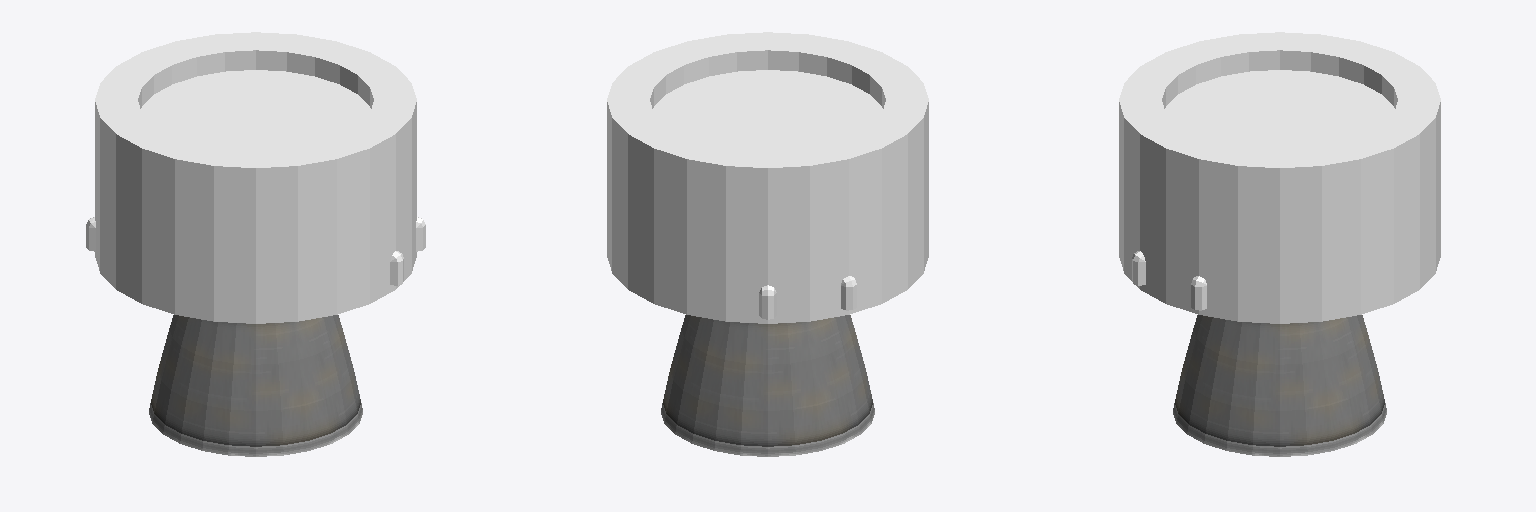
3 views of the same model, side by side, from view 1: azimuth 30°, elevation 25°; view 2: azimuth 150°, elevation 25°; view 3: azimuth 270°, elevation 25° (orthographic).
Visible parts, largest first — view 1: chara_lv_engine_s0p5_2, chara_lv_engine_s0p5_2_nozzle; view 2: chara_lv_engine_s0p5_2, chara_lv_engine_s0p5_2_nozzle; view 3: chara_lv_engine_s0p5_2, chara_lv_engine_s0p5_2_nozzle.
Part boxes in pixels (left/top/right/bottom): chara_lv_engine_s0p5_2: left=86, top=32, right=425, bottom=323; chara_lv_engine_s0p5_2_nozzle: left=149, top=315, right=362, bottom=456; chara_lv_engine_s0p5_2: left=607, top=32, right=928, bottom=323; chara_lv_engine_s0p5_2_nozzle: left=661, top=315, right=874, bottom=456; chara_lv_engine_s0p5_2: left=1119, top=32, right=1440, bottom=323; chara_lv_engine_s0p5_2_nozzle: left=1173, top=315, right=1386, bottom=456.
Bounding box in the file's own units: 0.9375 × 1 × 0.9375.
2 materials, 1 textured.